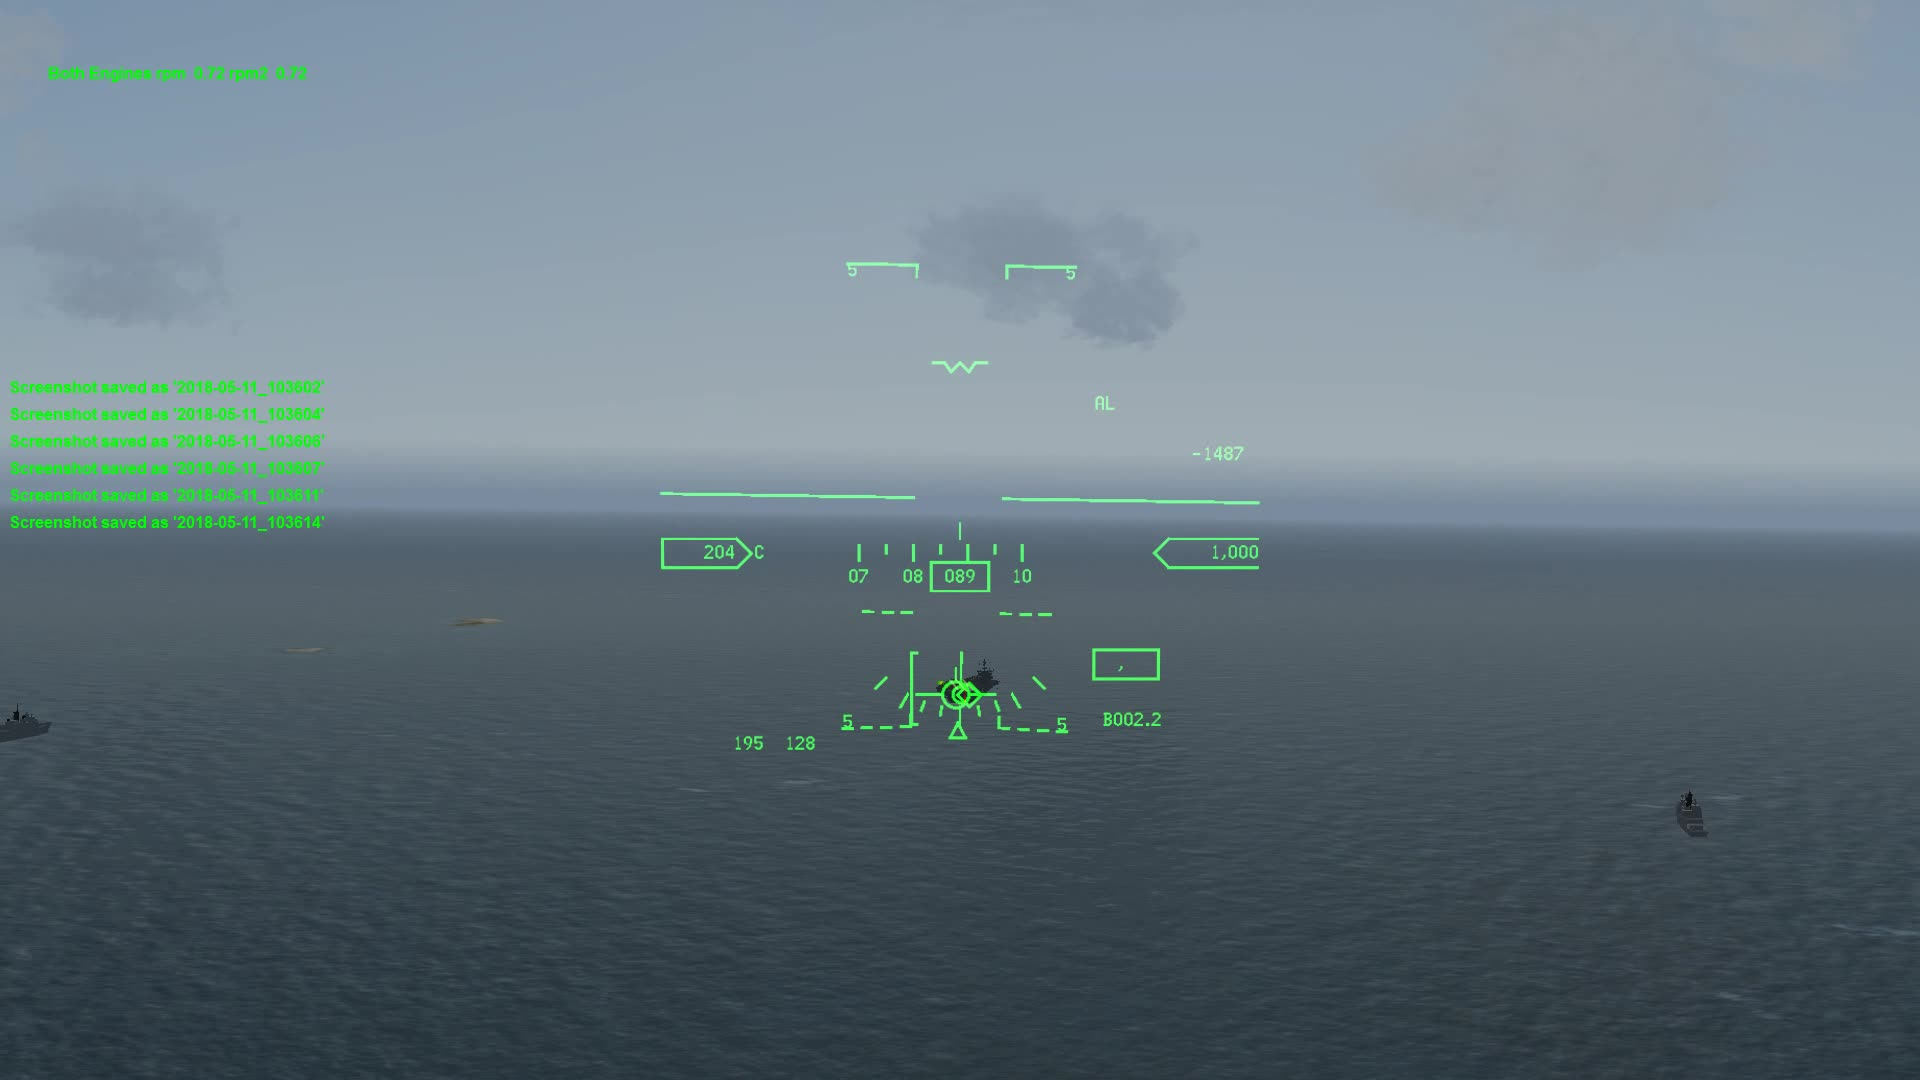speed vector: (916, 666, 1004, 711)
